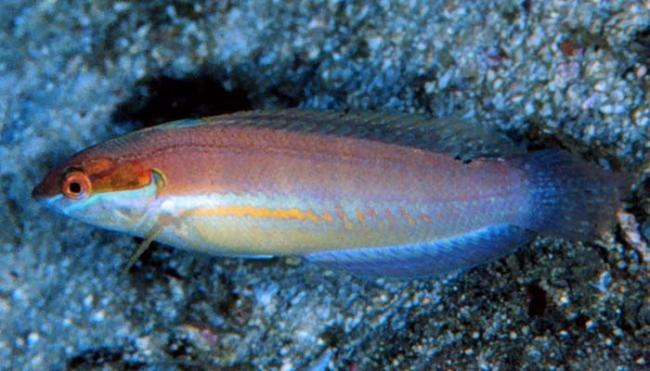fish: (31, 108, 621, 277)
